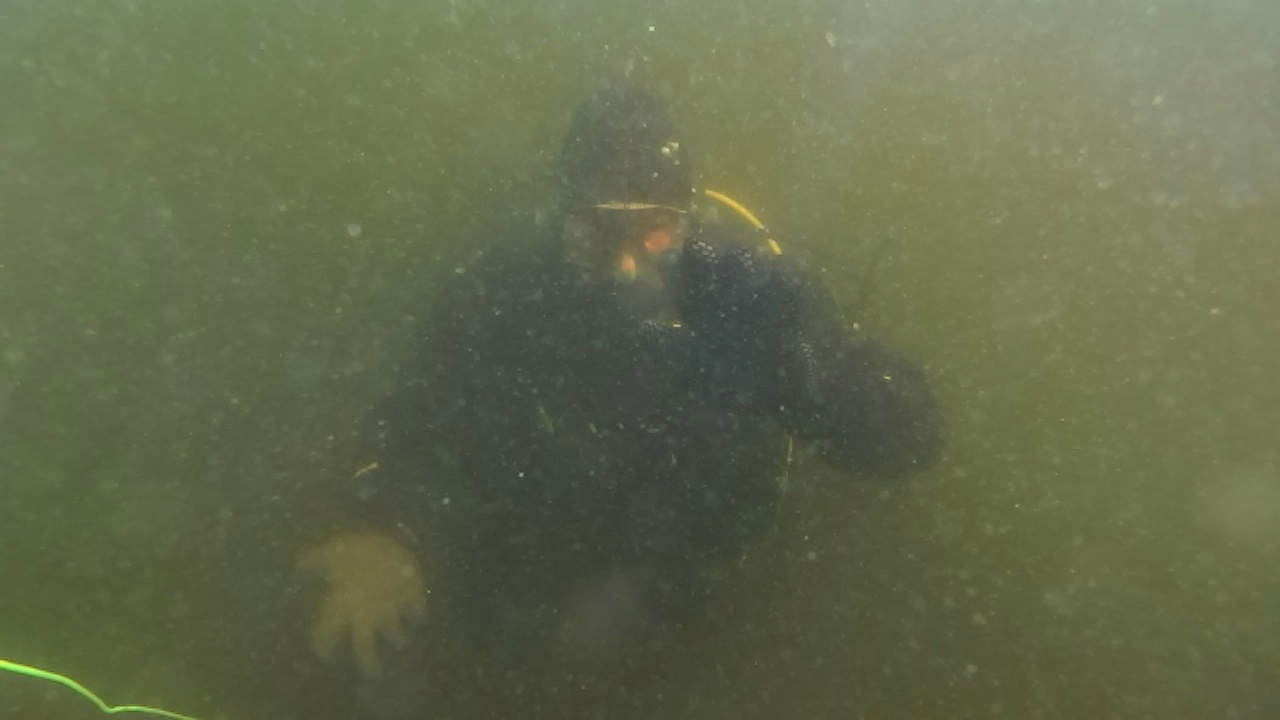Hand: (294, 516, 446, 682)
Head: (544, 114, 720, 328)
